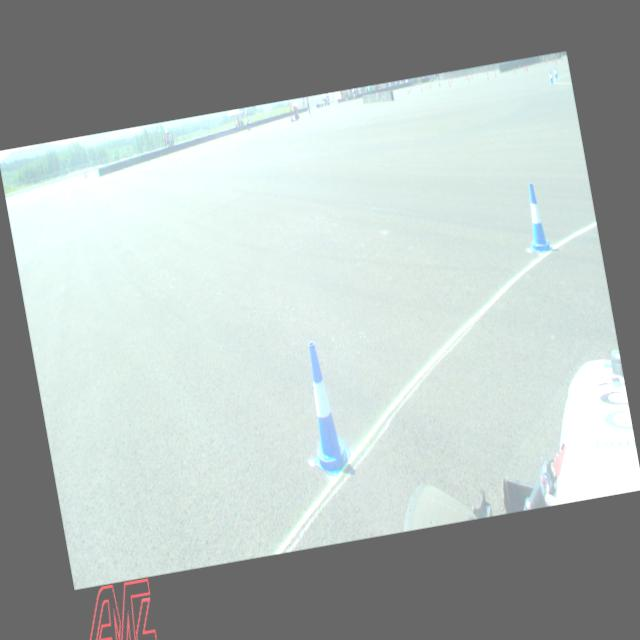blue_cone: (294, 338, 354, 478), (518, 180, 552, 254), (548, 70, 553, 82), (553, 67, 557, 78)
